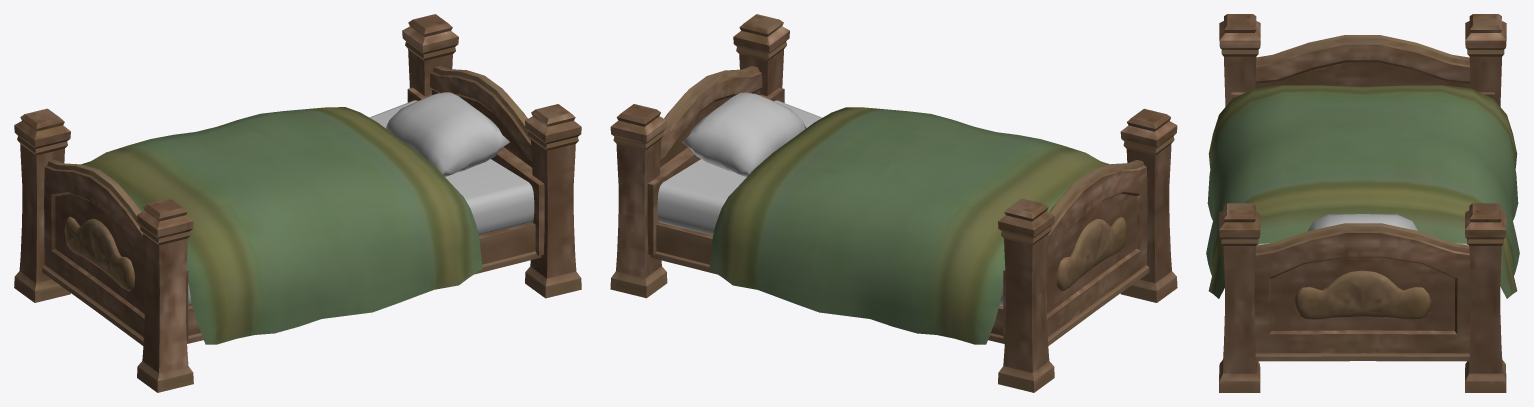
Rendered from SM_BedMedieval_76d870.glb.
3 renders of one model, left to right at view 1: azimuth 30°, elevation 25°; view 2: azimuth 150°, elevation 25°; view 3: azimuth 270°, elevation 25°, orthographic.
Size of the model in its own units: 3.19 by 1.26 by 2.04.
1 material, 1 textured.
